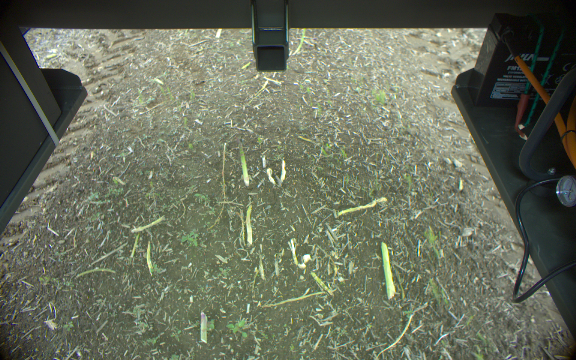aspa: (377, 240, 397, 299), (242, 203, 255, 246), (238, 141, 249, 187), (196, 310, 209, 346), (292, 28, 307, 57)
